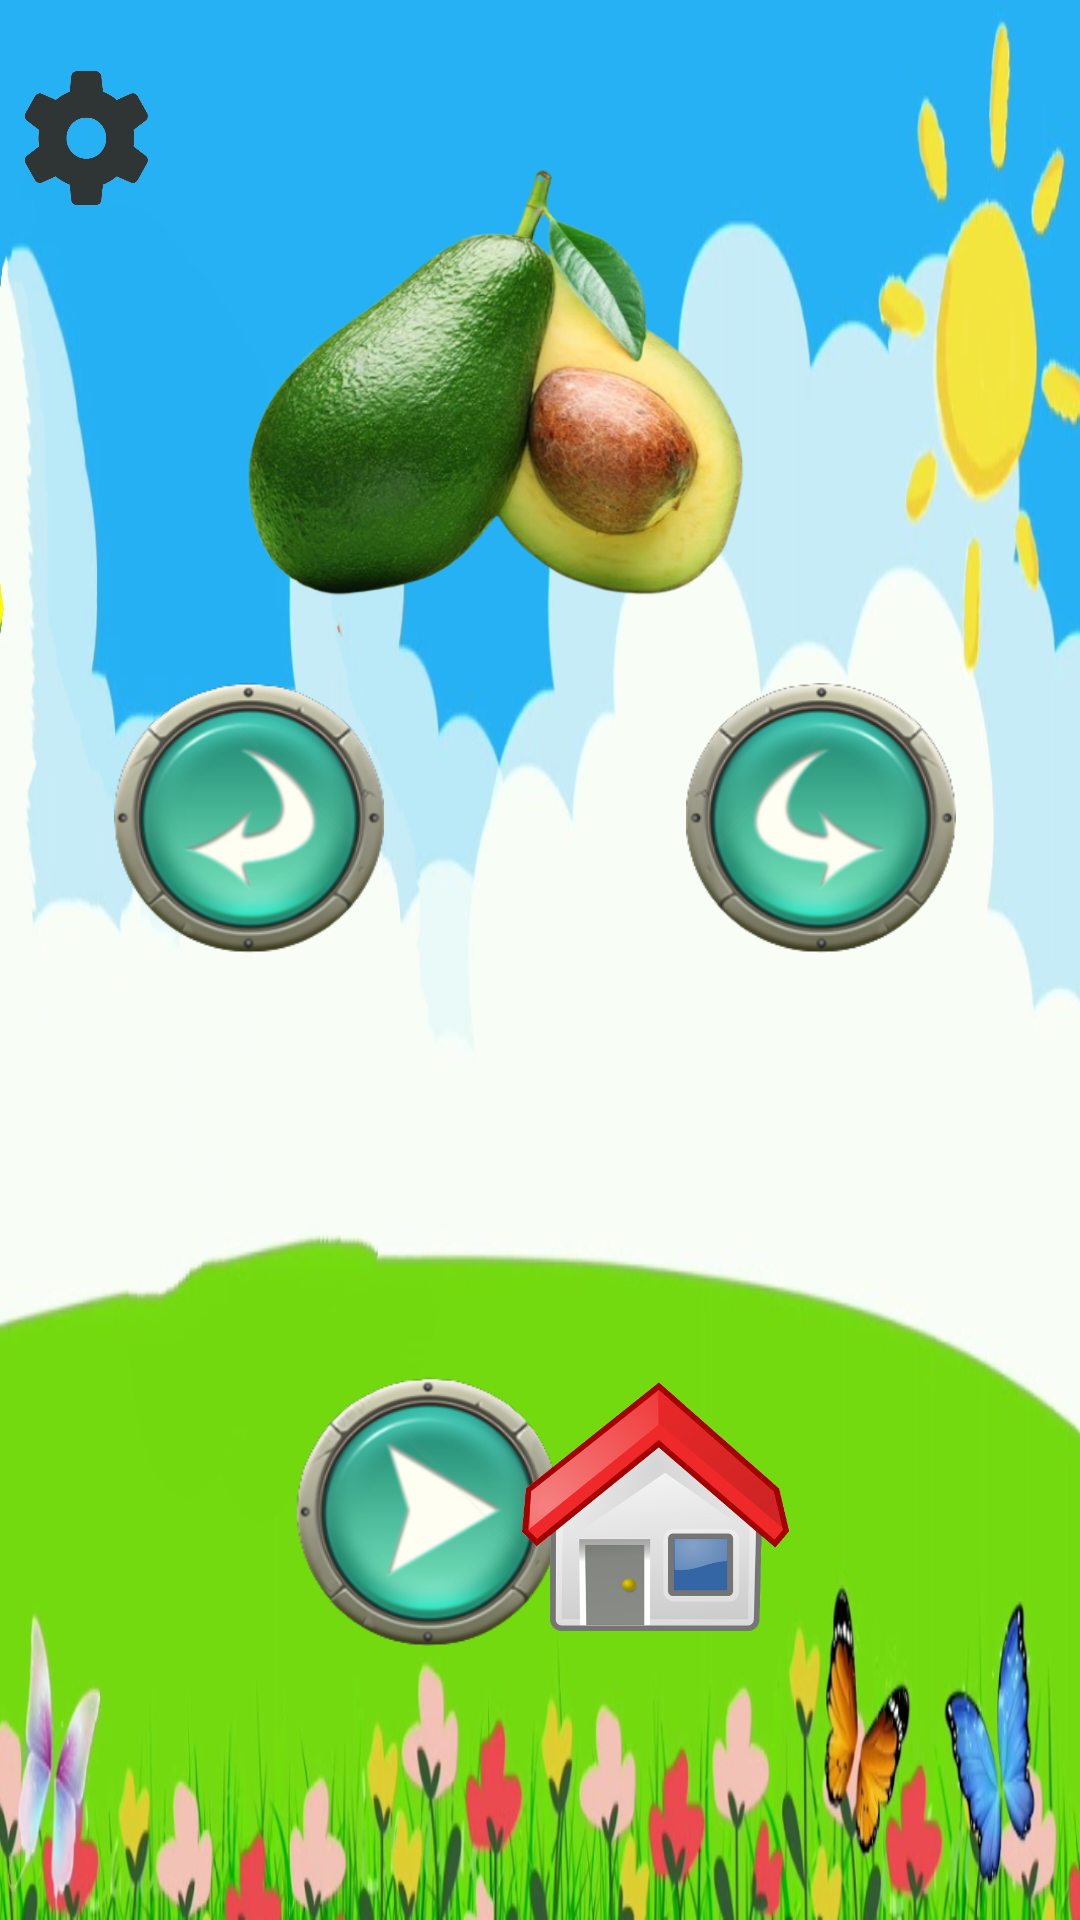

Screen size 1080×1920. Icon name, then its center in pixels as (x,y):
back: (249,818)
home: (655,1506)
next: (821,817)
play: (430,1512)
setting: (86,138)
